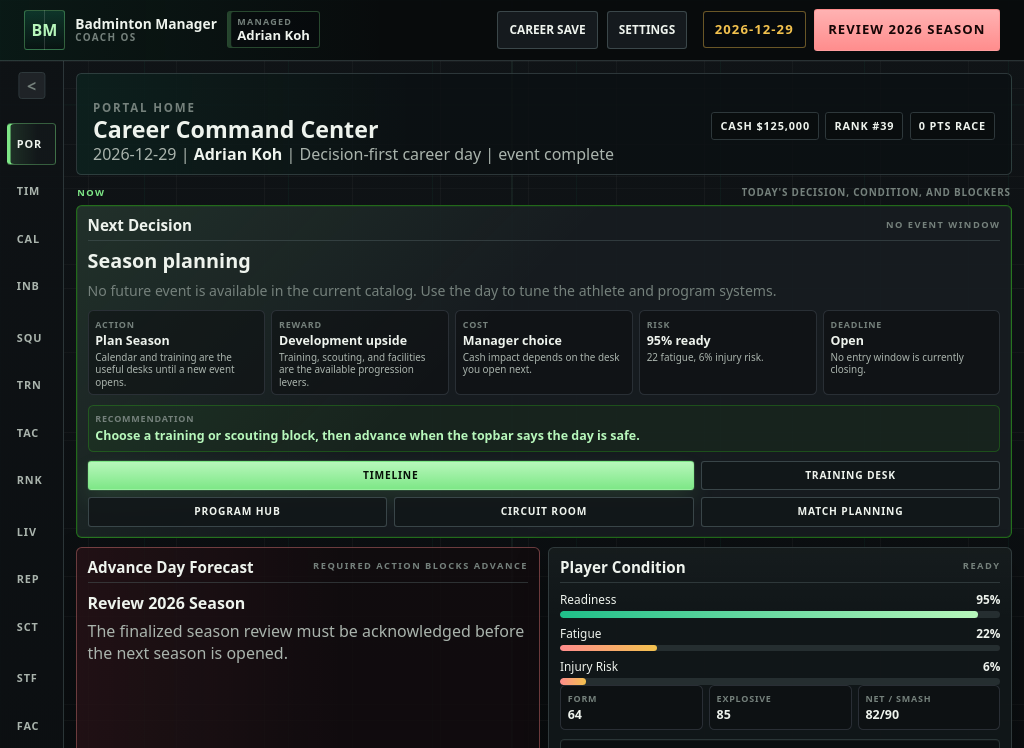
it: career lifecycle management UI › keeps rollover explicit in Reports and opens exactly the next season
Click the button "Review 2026 Season" at (907, 30), box [814,9,1000,51]
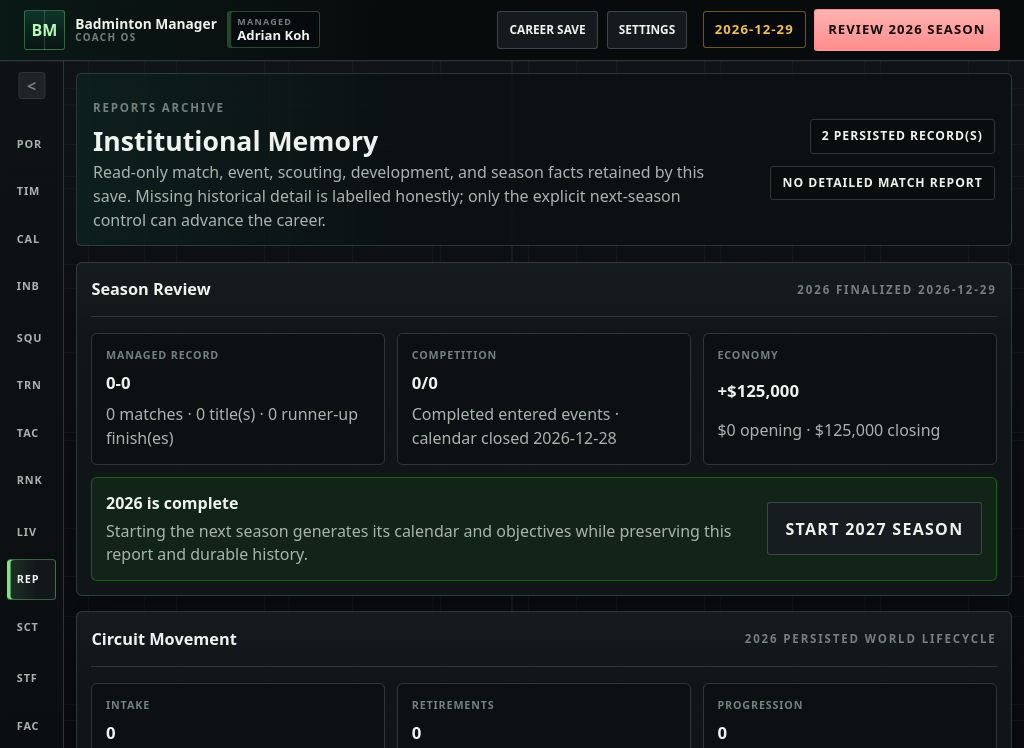
Expected: the heading "Season Review" is shown, [91,277,211,302]
Expected: the heading "Institutional Memory" is shown, [93,123,378,159]
Click the button "Start 2027 Season" at (874, 529), box [767,502,982,555]
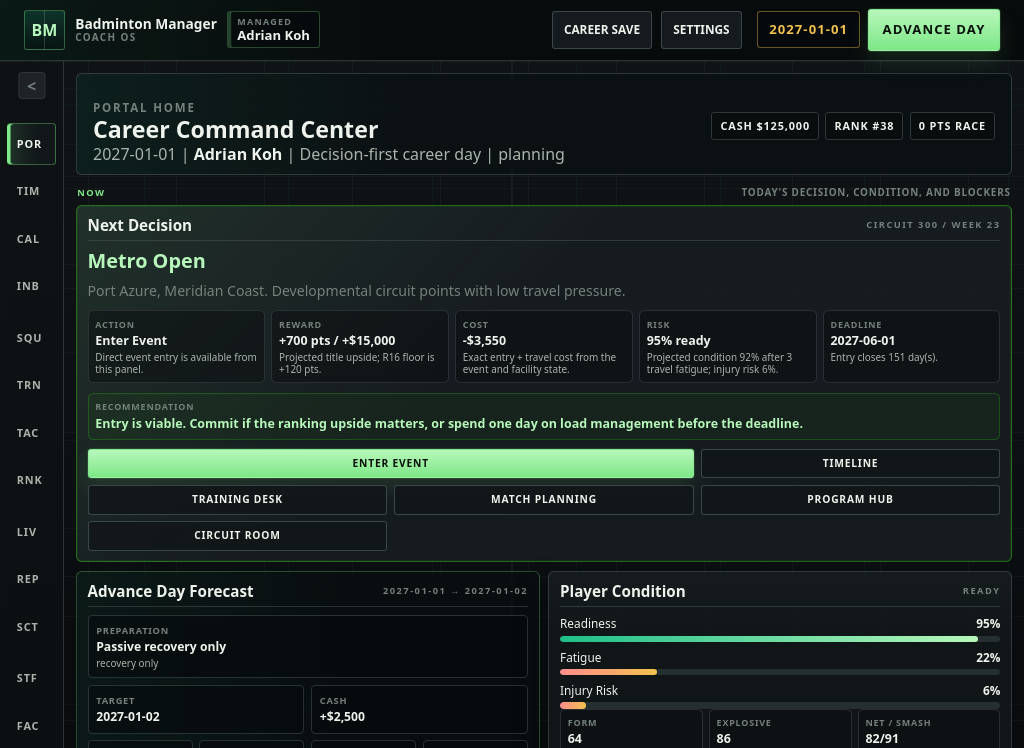
Expected: the heading "Career Command Center" is shown, [93,113,378,145]
Expected: the button "Advance Day" is shown, [868,9,1000,51]
